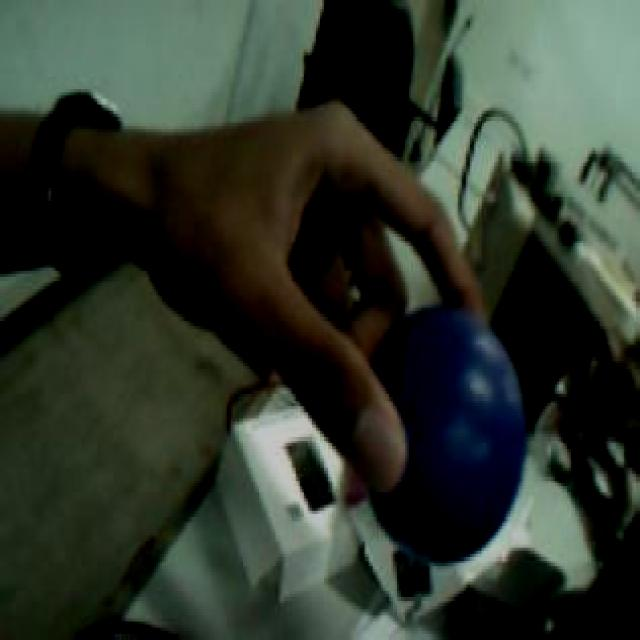BallPurple: (366, 304, 525, 566)
